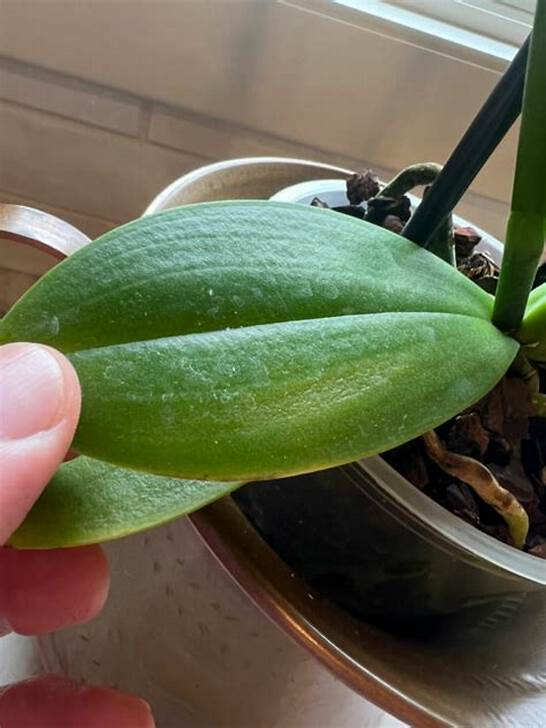orchid leaf: (6, 183, 517, 484)
